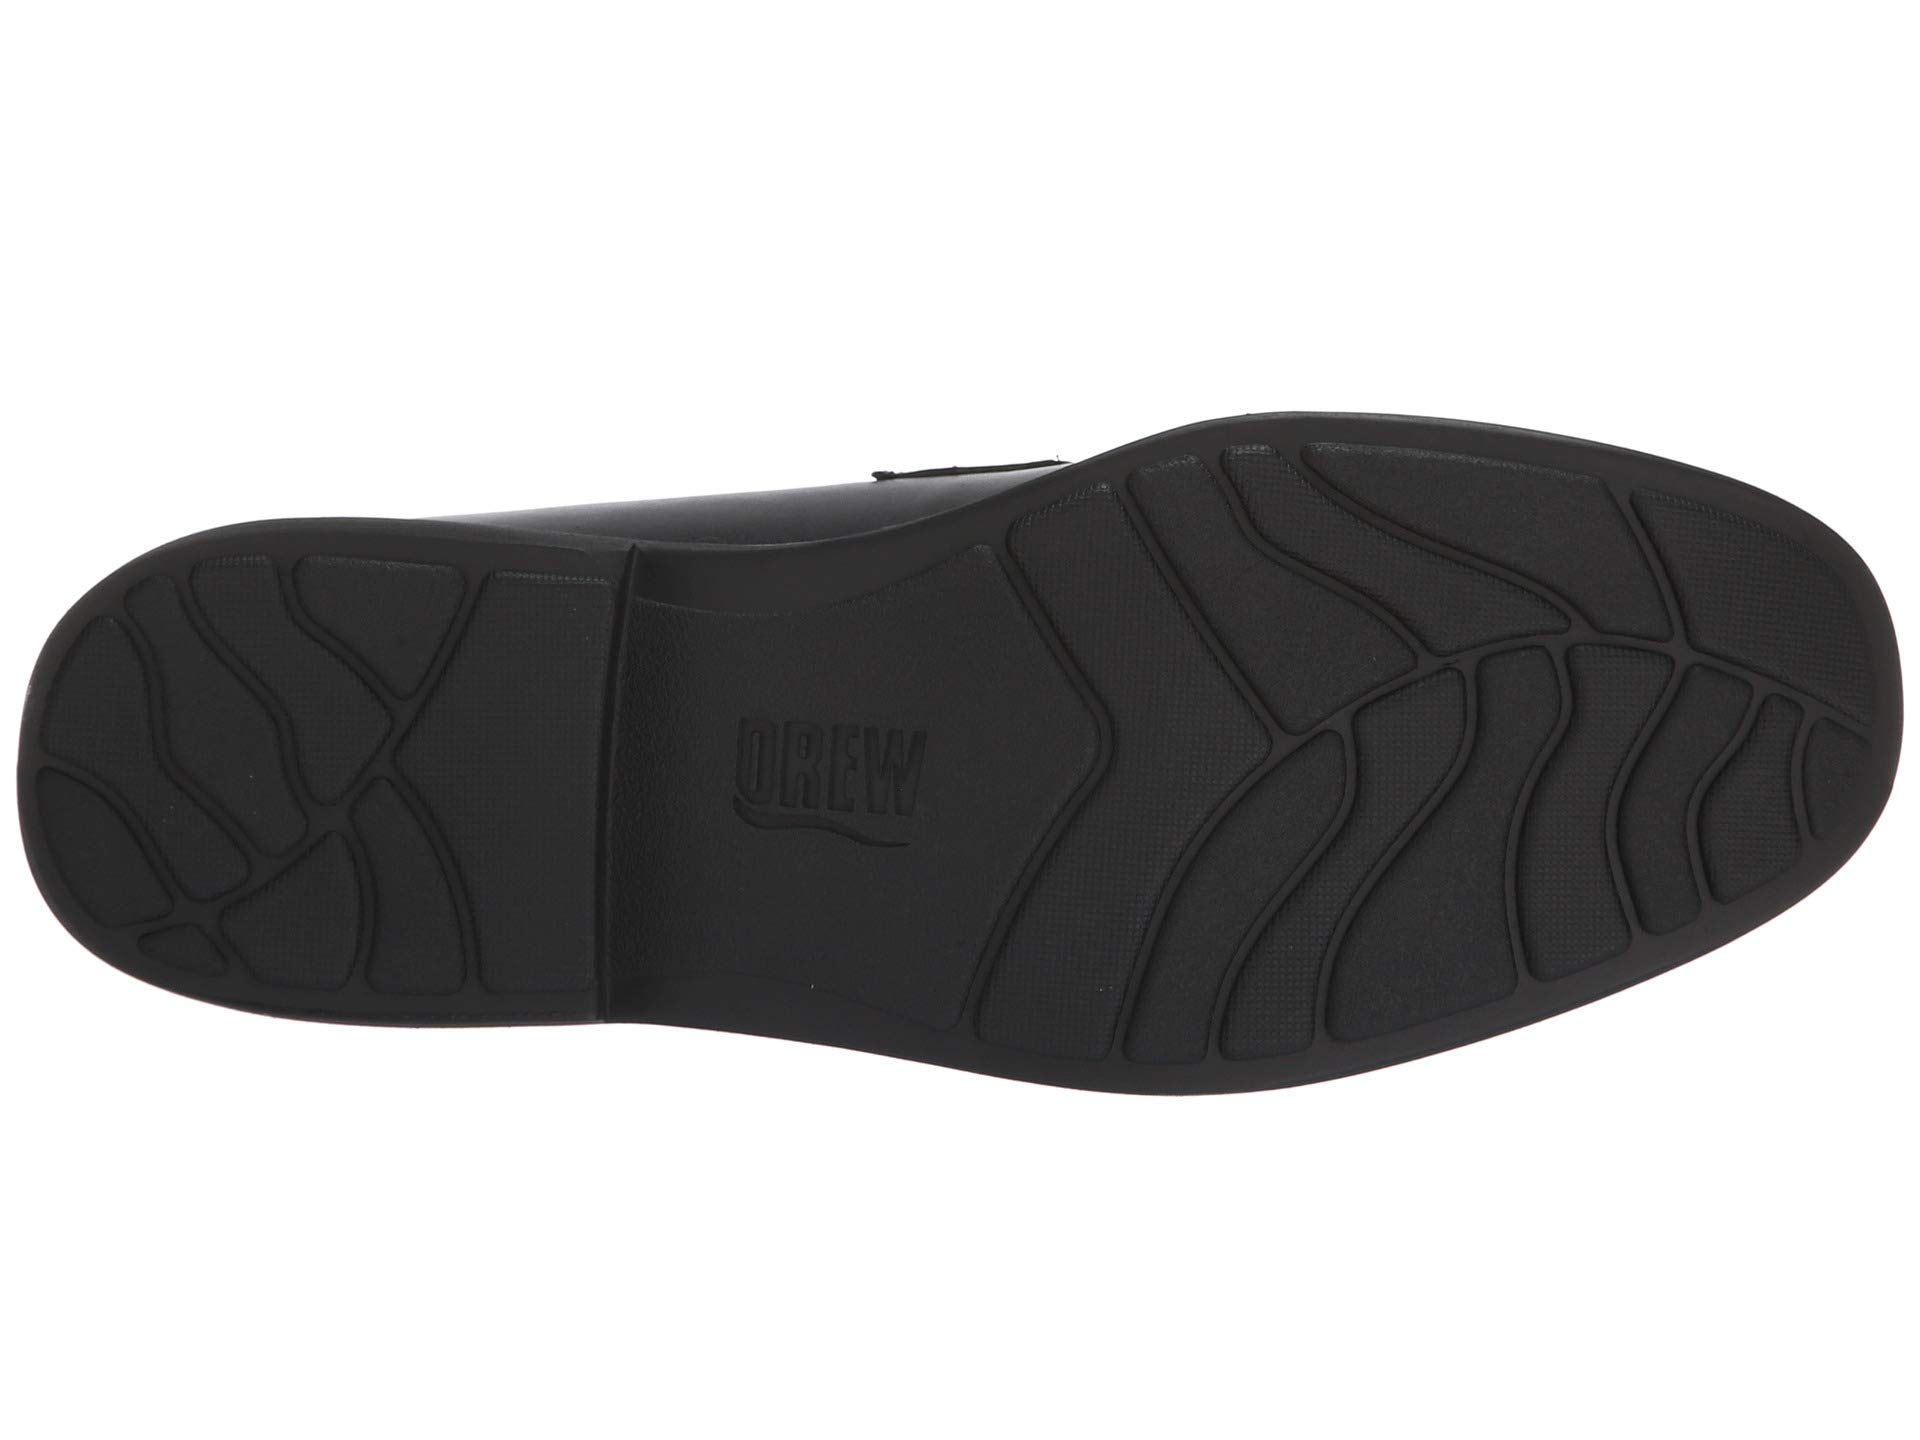chevron: (977, 472, 1305, 1080)
line: (683, 676, 937, 880)
polygon: (262, 531, 626, 1023)
quad: (262, 531, 626, 1023), (1615, 464, 1879, 879)
text: (683, 676, 937, 880)
triangle: (262, 531, 626, 1023), (1615, 464, 1879, 879)
